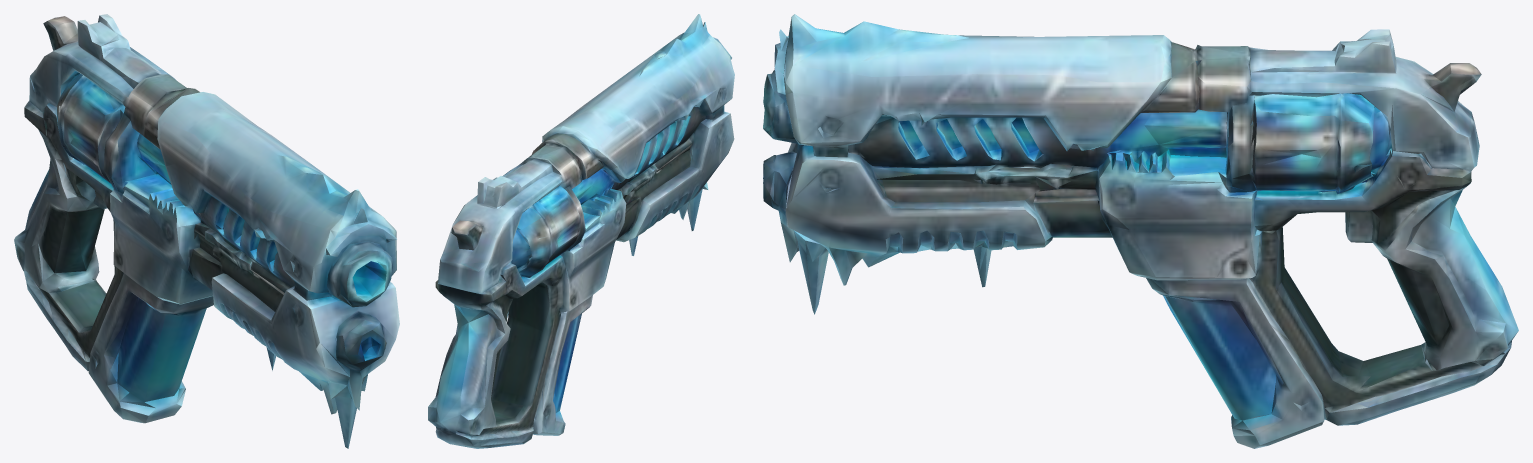
File: freeze_gun.glb
3 renders of one model, left to right at view 1: azimuth 30°, elevation 25°; view 2: azimuth 150°, elevation 25°; view 3: azimuth 270°, elevation 25°, orthographic. The views are drawn at different scales.
Visible parts, largest first — view 1: model; view 2: model; view 3: model.
Part boxes in pixels (x1,y1,x2,y2): model: (14,14,399,448); model: (428,14,734,448); model: (763,14,1518,448).
Size of the model in its own units: 0.0732 by 0.2351 by 0.38.
Materials: 1 (1 with a texture image).
